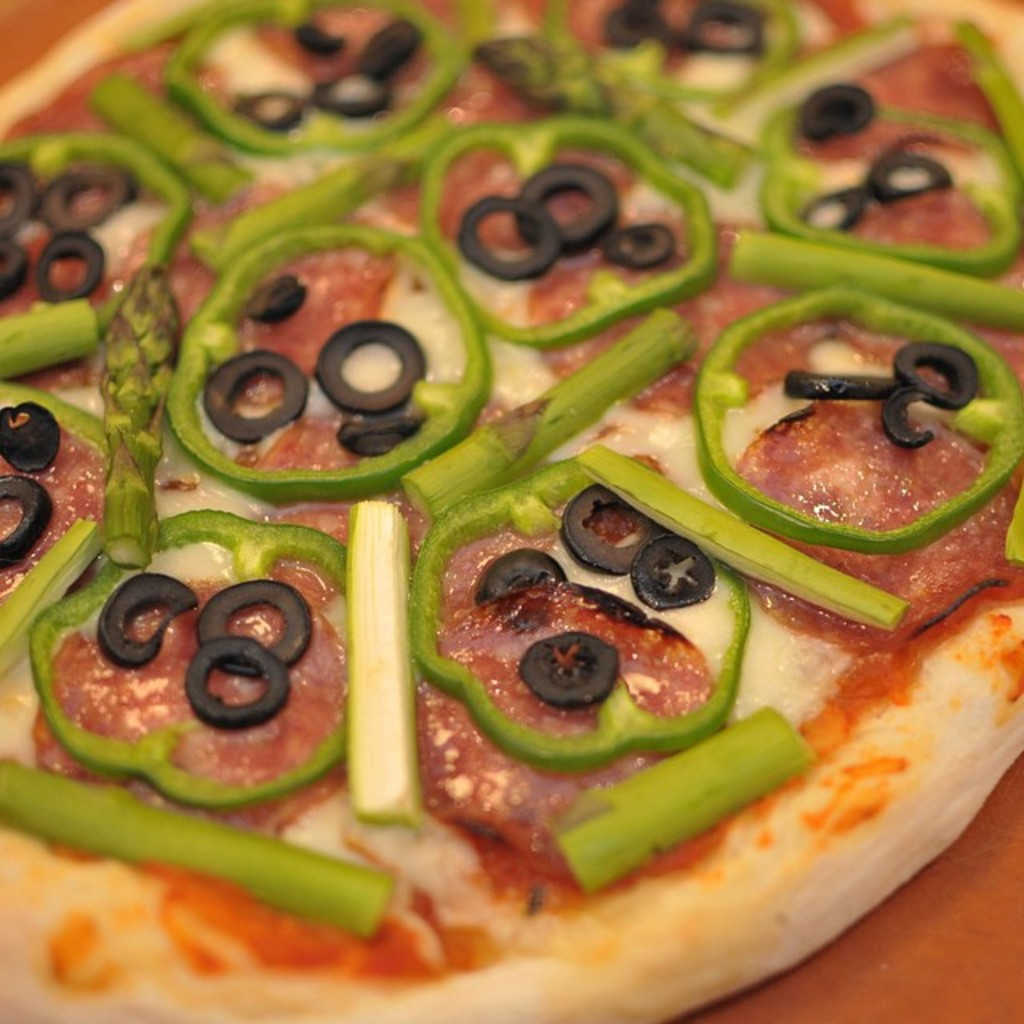Pizza: (0, 38, 1024, 984)
